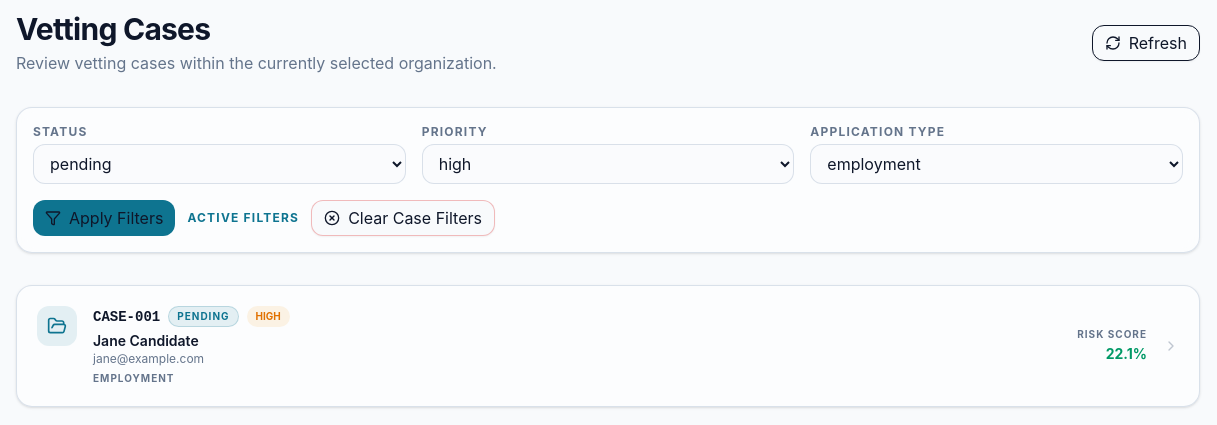
Test: OrgCasesPage filters › hydrates URL filters and clears active filter set
Expected: the text "Active Filters" is shown, [187,210,299,226]
Click the button "Clear Case Filters": (403,218) [311,200,495,236]
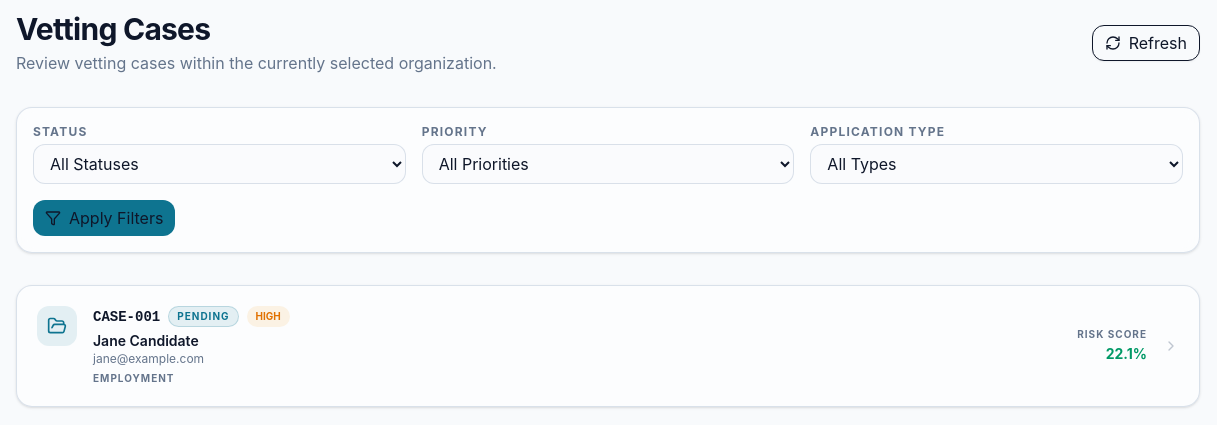
Expected: the dropdown labelled "Application Type" shows "All Types", [810,144,1183,184]
Expected: the text "Active Filters" is gone
